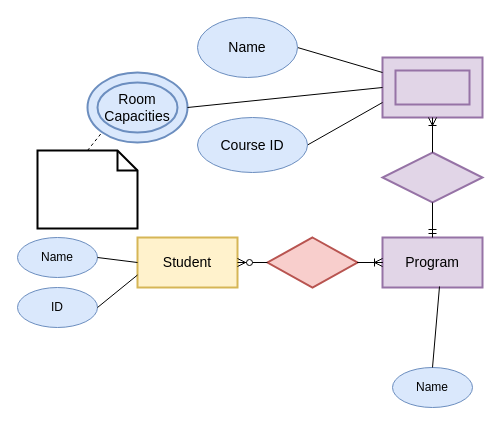
Image size: 501x425. Some labels were removed from this diagram. Here are the shapes that lost their labels. From the top down, the centre of each, then its label:
At pixel 432 87: "Course".
At pixel 87 189: "Max number of participants in each room".
At pixel 432 177: "includes".
At pixel 312 262: "enrolls in".
